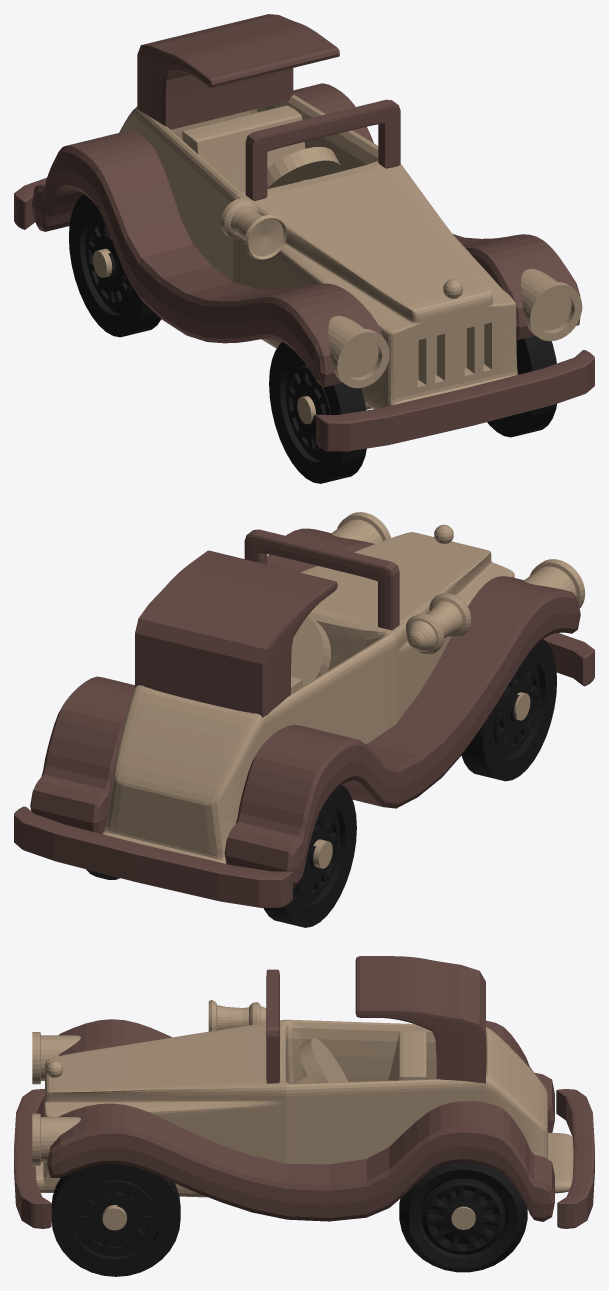
Rendered from carrito-de-madera.obj.
3 renders of one model, top to bottom at view 1: azimuth 30°, elevation 25°; view 2: azimuth 150°, elevation 25°; view 3: azimuth 270°, elevation 25°, orthographic. The views are drawn at different scales.
Visible parts, largest first — view 1: Cube, Cube.001, Cube.005_Cube.006, Cylinder.000_Cylinder.003, Cube.002_Cube.003, Front_Cube.003, Cube.003_Cube.004, Cube.004_Cube.005, Cylinder.003_Cylinder.005, Cylinder_Cylinder.004, Cylinder.005_Cylinder.007, Cylinder.002 (+1 smaller); view 2: Cube.001, Cube, Cube.005_Cube.006, Cube.002_Cube.003, Cylinder.000_Cylinder.003, Cube.003_Cube.004, Cylinder.005_Cylinder.007, Cylinder.004_Cylinder.006, Cylinder.003_Cylinder.005, Cylinder_Cylinder.004; view 3: Cube, Cube.001, Cylinder.002, Cube.005_Cube.006, Cylinder.001, Cube.002_Cube.003, Cube.004_Cube.005, Cube.003_Cube.004, Cylinder.004_Cylinder.006, Cylinder_Cylinder.004, Cylinder.005_Cylinder.007, Cylinder.003_Cylinder.005 (+2 smaller).
Boxes of the visible parts, <box> form: Cube: <box>119,94,517,408</box>; Cube.001: <box>31,83,582,387</box>; Cube.005_Cube.006: <box>137,14,339,129</box>; Cylinder.000_Cylinder.003: <box>69,194,366,483</box>; Cube.002_Cube.003: <box>14,178,594,451</box>; Front_Cube.003: <box>360,161,503,396</box>; Cube.003_Cube.004: <box>245,99,400,200</box>; Cube.004_Cube.005: <box>181,105,305,191</box>; Cylinder.003_Cylinder.005: <box>328,316,389,388</box>; Cylinder_Cylinder.004: <box>521,269,582,341</box>; Cylinder.005_Cylinder.007: <box>220,198,286,259</box>; Cylinder.002: <box>487,335,556,437</box>; Cube.001: <box>30,528,580,887</box>; Cube: <box>102,532,514,863</box>; Cube.005_Cube.006: <box>135,550,337,717</box>; Cube.002_Cube.003: <box>14,633,594,907</box>; Cylinder.000_Cylinder.003: <box>263,639,556,927</box>; Cube.003_Cube.004: <box>244,529,399,630</box>; Cylinder.005_Cylinder.007: <box>406,593,471,654</box>; Cylinder.004_Cylinder.006: <box>291,616,330,685</box>; Cylinder.003_Cylinder.005: <box>524,559,585,608</box>; Cylinder_Cylinder.004: <box>331,512,390,543</box>; Cube: <box>35,1019,573,1197</box>; Cube.001: <box>47,1019,554,1221</box>; Cylinder.002: <box>51,1164,180,1276</box>; Cube.005_Cube.006: <box>355,956,485,1083</box>; Cylinder.001: <box>399,1162,527,1272</box>; Cube.002_Cube.003: <box>14,1089,594,1228</box>; Cube.004_Cube.005: <box>388,1031,426,1080</box>; Cube.003_Cube.004: <box>266,969,279,1083</box>; Cylinder.004_Cylinder.006: <box>291,1038,347,1083</box>; Cylinder_Cylinder.004: <box>32,1113,80,1165</box>; Cylinder.005_Cylinder.007: <box>208,1000,266,1031</box>; Cylinder.003_Cylinder.005: <box>32,1032,80,1084</box>.
Bounding box in the file's own units: 12.58 × 12.71 × 26.94.
